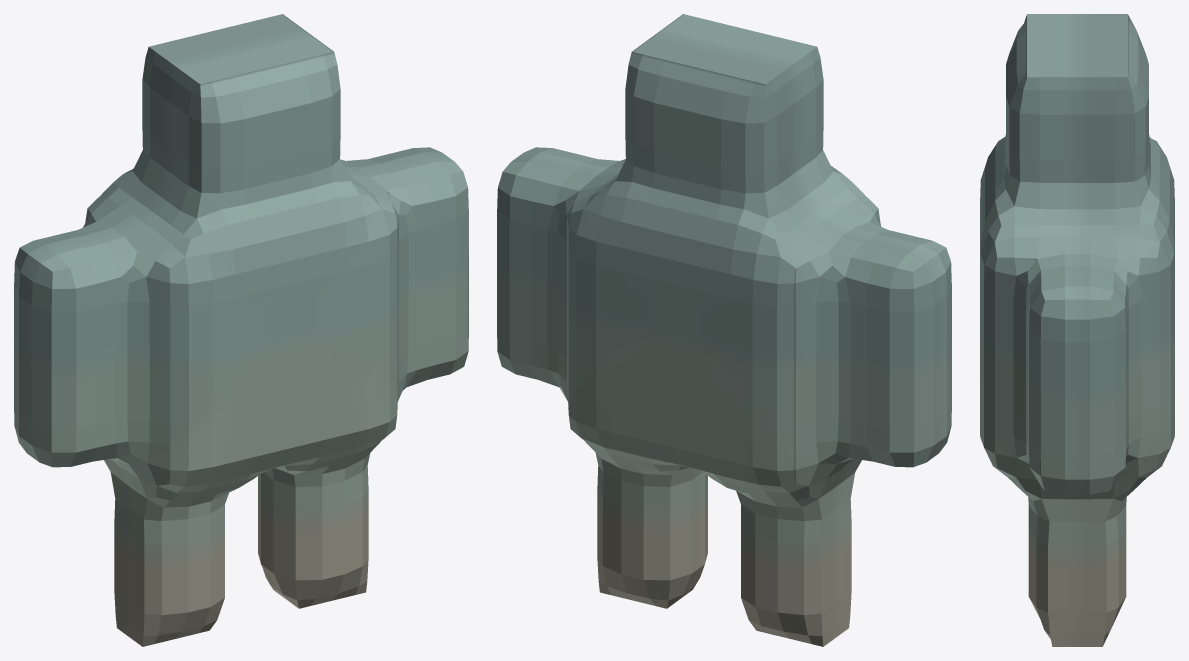
The model's file is golemFragment.glb.
3 renders of one model, left to right at view 1: azimuth 30°, elevation 25°; view 2: azimuth 150°, elevation 25°; view 3: azimuth 270°, elevation 25°, orthographic. The views are drawn at different scales.
Parts seen in each view (by area): view 1: geometry_0; view 2: geometry_0; view 3: geometry_0.
Boxes of the visible parts, <box> form: geometry_0: <box>14,14,468,646</box>; geometry_0: <box>497,14,951,646</box>; geometry_0: <box>980,14,1174,646</box>.
Size of the model in its own units: 0.8065 by 1 by 0.3226.
Materials: 1 (1 with a texture image).
